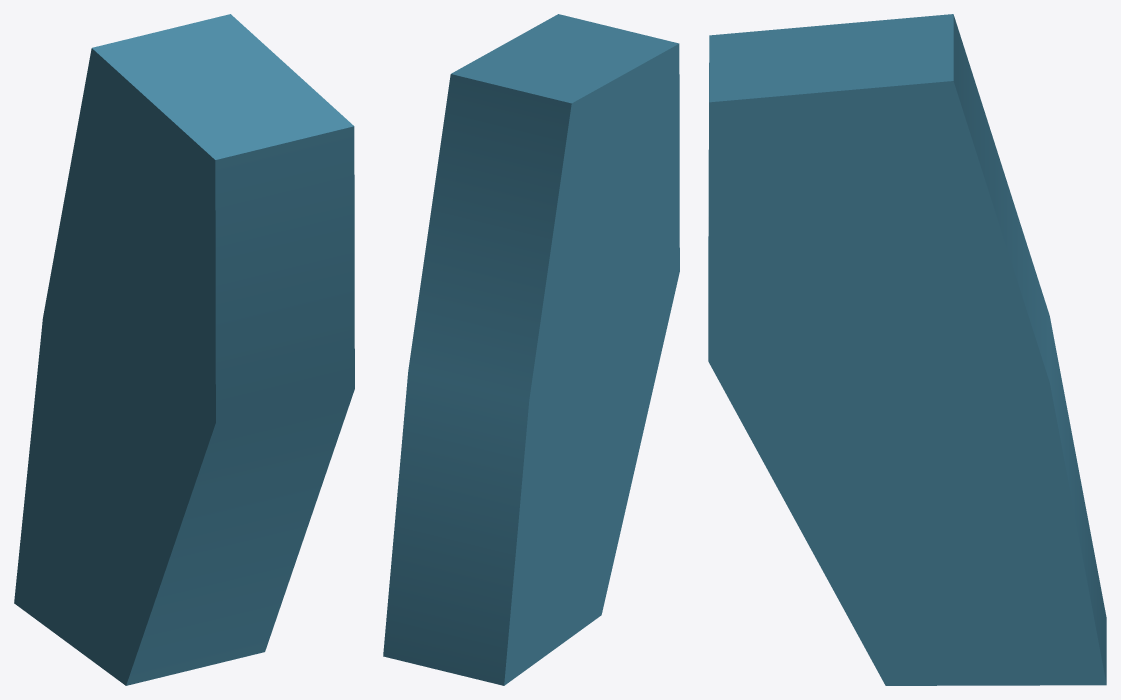
File: NexusC_Trigger_21.fbx
3 renders of one model, left to right at view 1: azimuth 30°, elevation 25°; view 2: azimuth 150°, elevation 25°; view 3: azimuth 270°, elevation 25°, orthographic. The views are drawn at different scales.
Visible parts, largest first — view 1: polySurface34; view 2: polySurface34; view 3: polySurface34.
Part boxes in pixels (x1,y1,x2,y2): polySurface34: [14, 14, 354, 685]; polySurface34: [383, 14, 679, 685]; polySurface34: [708, 14, 1106, 685].
Bounding box in the file's own units: 12.72 × 53.57 × 31.98.
